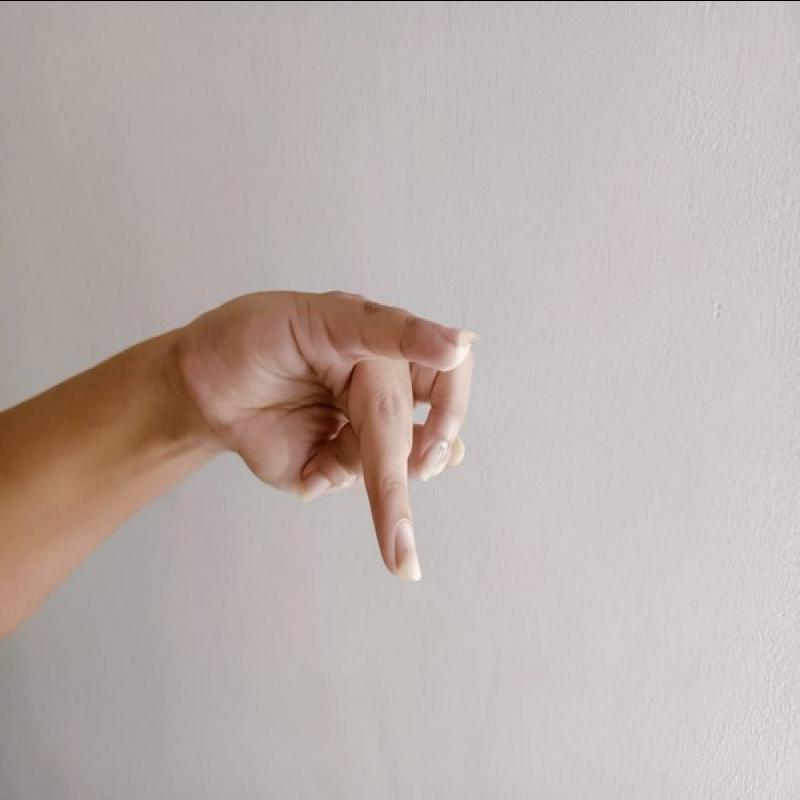Katakam: (165, 251, 501, 593)
